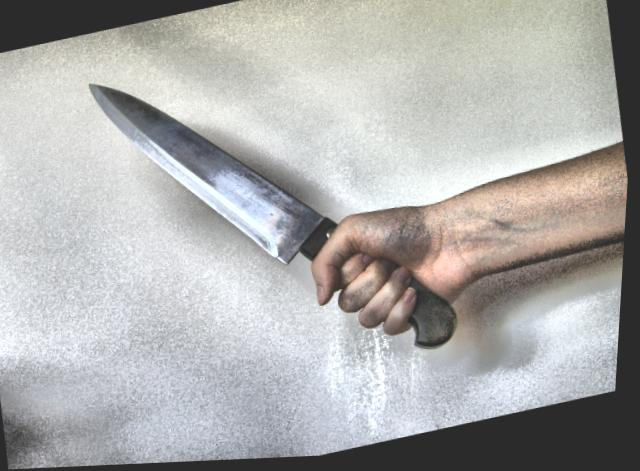knife: (70, 13, 446, 400)
